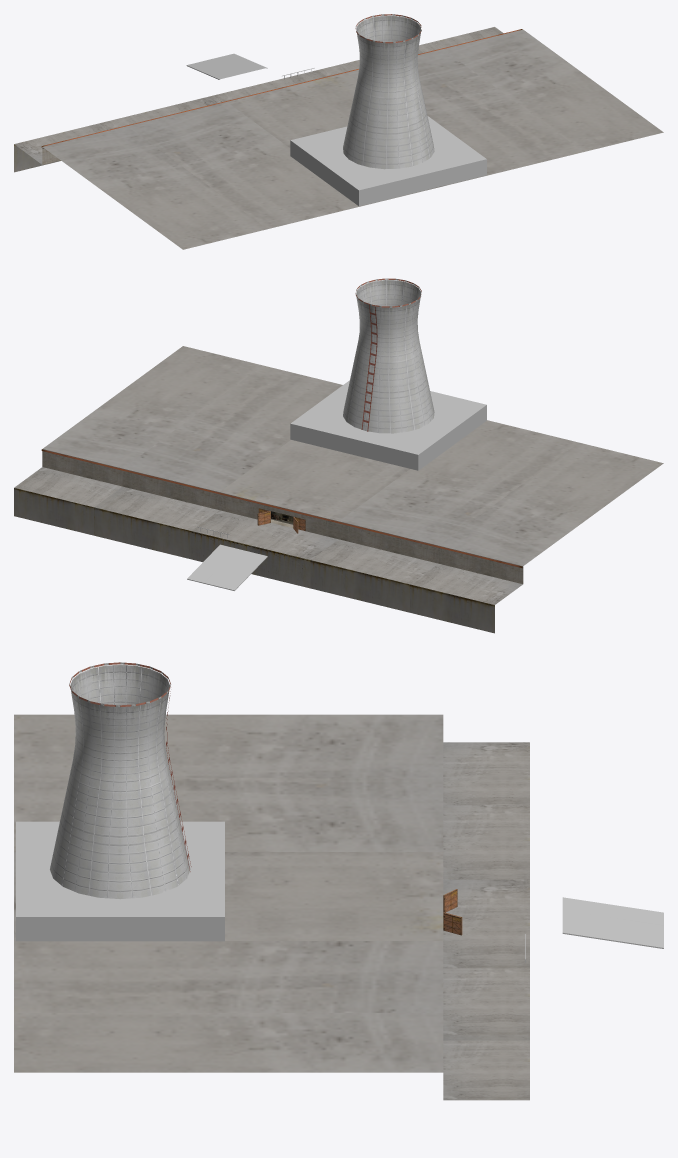
File: Map_P03_End.fbx
The picture shows the model from 3 angles, top to bottom: view 1: azimuth 30°, elevation 25°; view 2: azimuth 150°, elevation 25°; view 3: azimuth 270°, elevation 25°; orthographic projection. The views are drawn at different scales.
Parts seen in each view (by area): view 1: Assets_54, Assets_51, Assets_56, Assets_53; view 2: Assets_54, Assets_51, Assets_56, Assets_53; view 3: Assets_54, Assets_51, Assets_56, Assets_53.
Boxes of the visible parts, <box> form: Assets_54: <box>14,27,663,249</box>; Assets_51: <box>343,14,434,169</box>; Assets_56: <box>290,116,486,206</box>; Assets_53: <box>186,53,267,79</box>; Assets_54: <box>14,346,663,633</box>; Assets_51: <box>343,278,434,433</box>; Assets_56: <box>290,380,486,470</box>; Assets_53: <box>187,544,267,590</box>; Assets_54: <box>14,714,529,1100</box>; Assets_51: <box>50,662,191,899</box>; Assets_56: <box>16,821,224,941</box>; Assets_53: <box>562,897,663,948</box>.
Bounding box in the file's own units: 12426 × 4544 × 9534.
